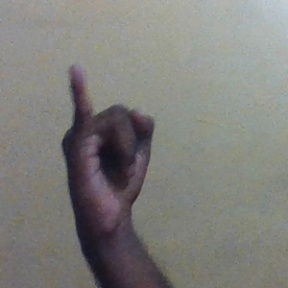I: (56, 61, 158, 219)
